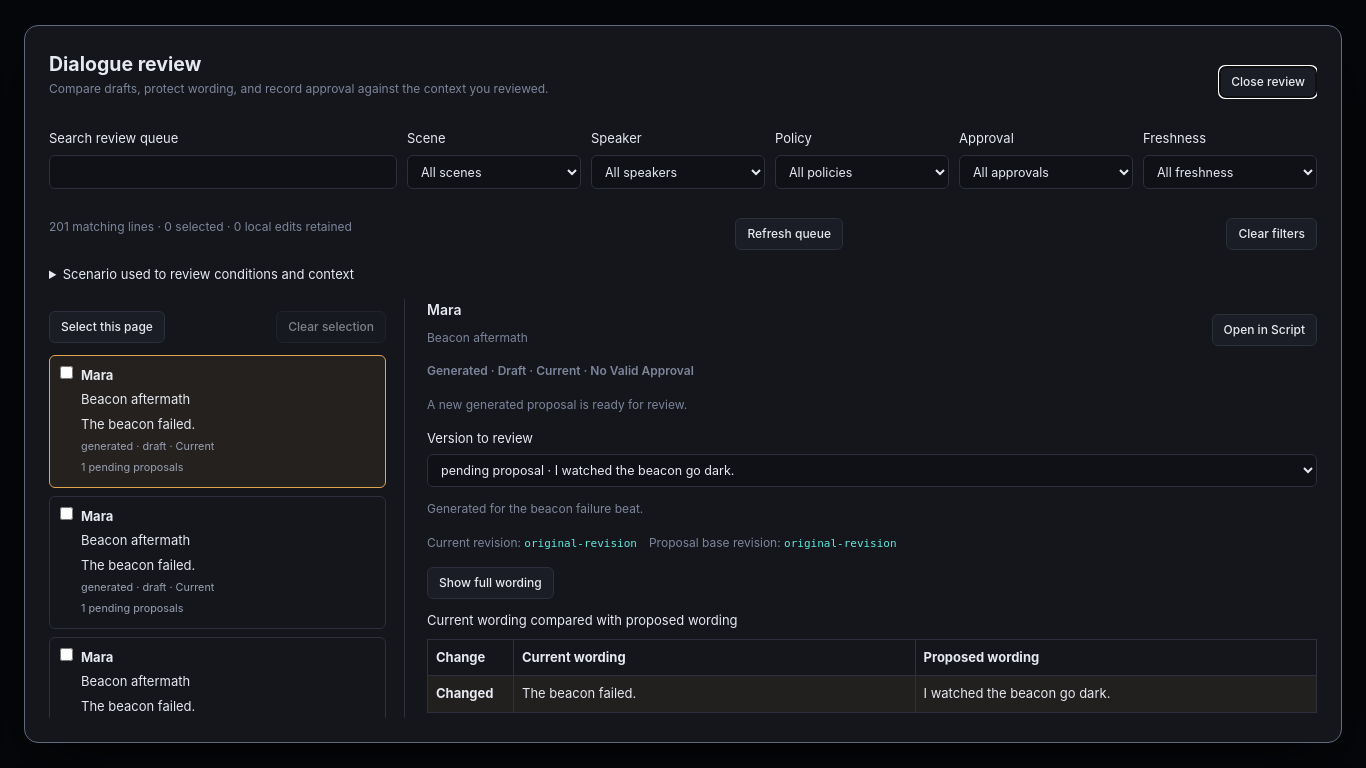
Scenario: paginates hundreds of lines and keeps explicit selection outside the current page
Click the button "Select this page": coordinates (107, 327) [49,311,165,343]
(page scrolled)
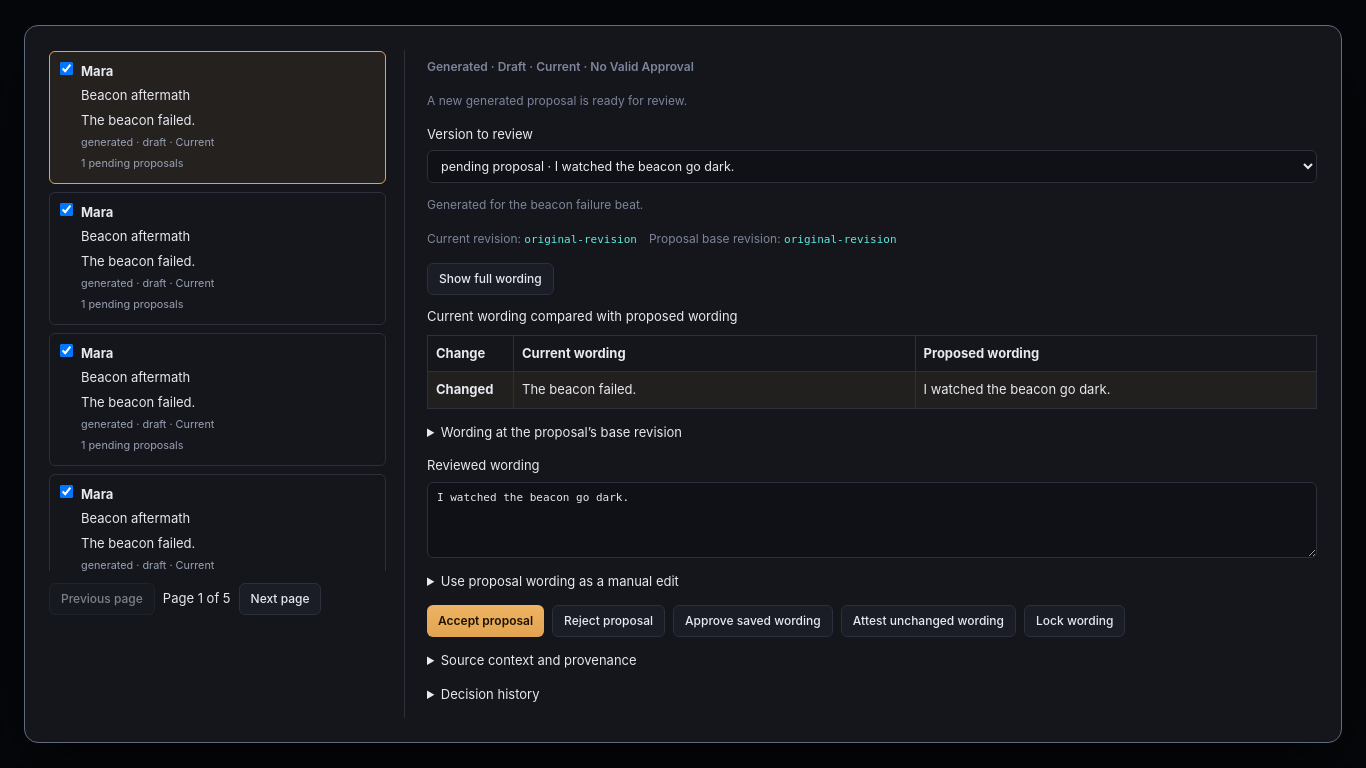
Click the button "Next page": coordinates (280, 599) [239,583,322,615]
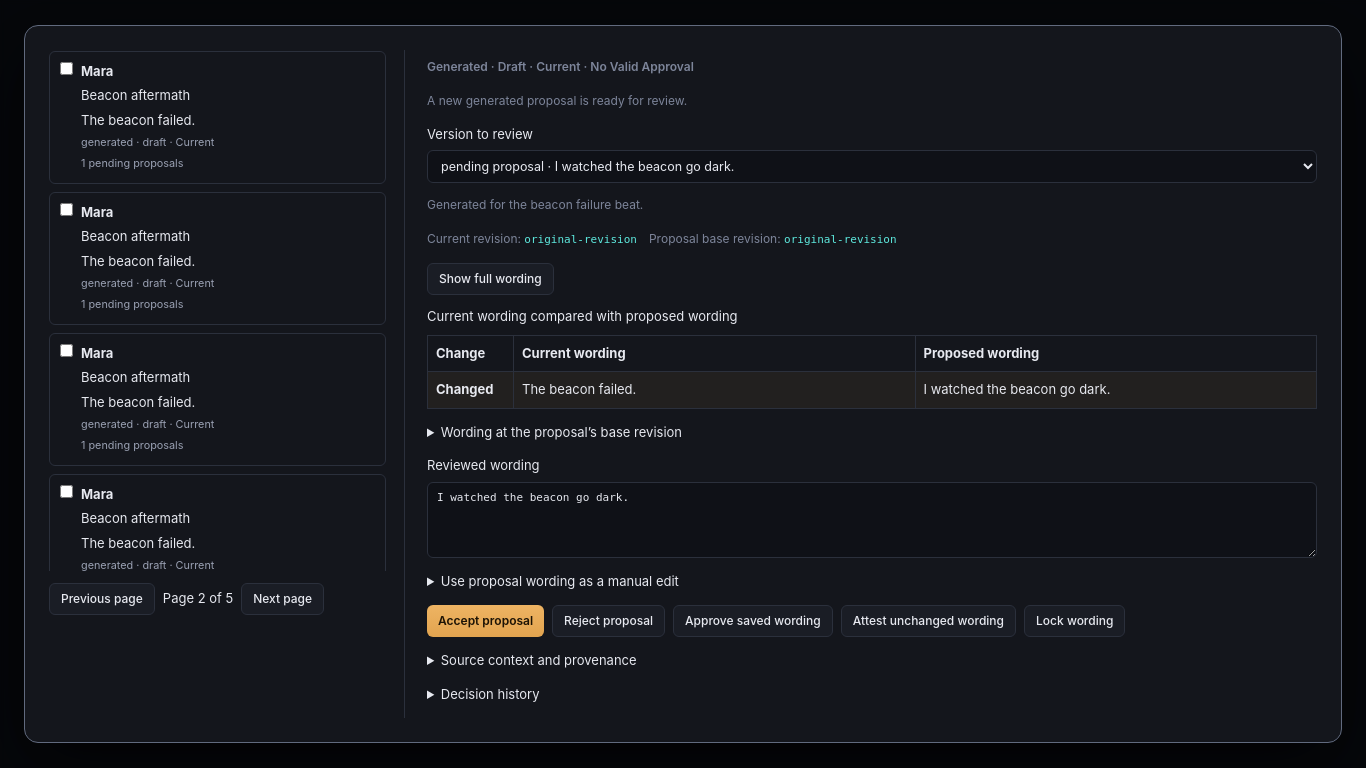
Now the text "Page 2 of 5" is shown, box [163,589,233,608]
